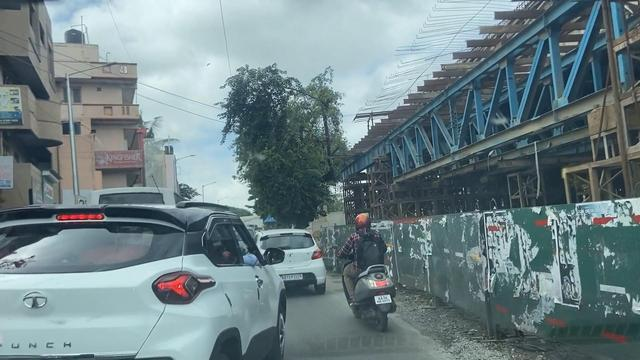LMV: (3, 211, 241, 359), (347, 201, 390, 333)
